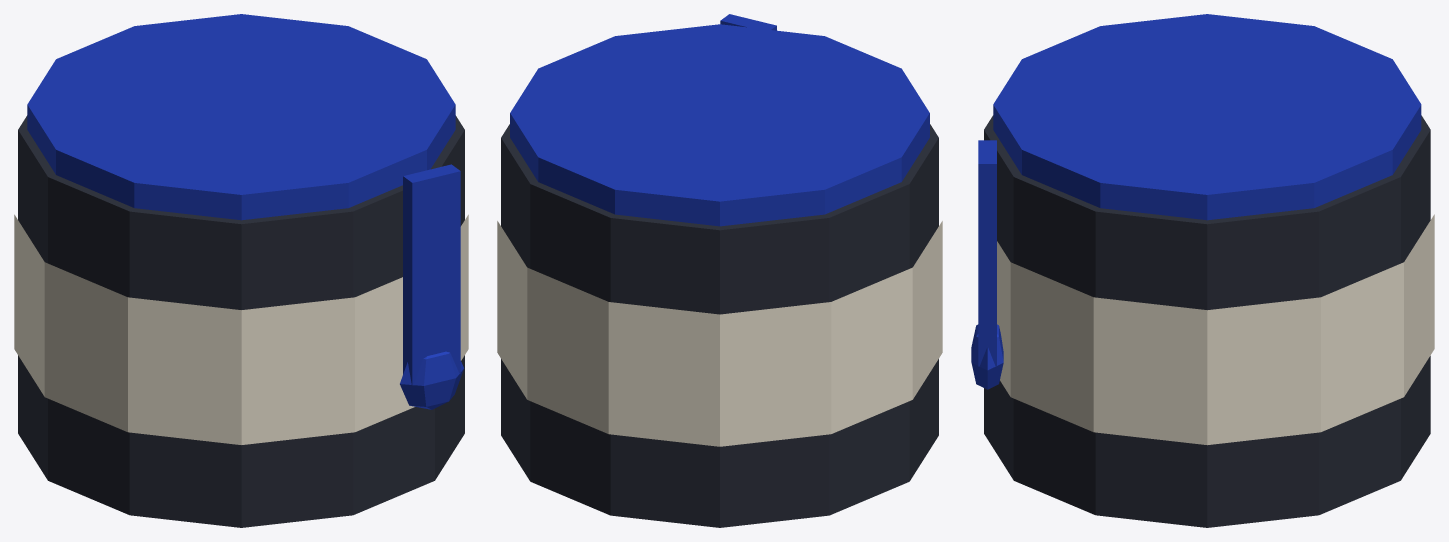
Rendered from ink_pot.glb.
3 views of the same model, side by side, from view 1: azimuth 30°, elevation 25°; view 2: azimuth 150°, elevation 25°; view 3: azimuth 270°, elevation 25° (orthographic). The views are drawn at different scales.
Visible parts, largest first — view 1: tin_ink_tin, tin_ink_blue, label_ink_label, drip_ink_blue; view 2: tin_ink_tin, tin_ink_blue, label_ink_label; view 3: tin_ink_tin, tin_ink_blue, label_ink_label, drip_ink_blue.
Boxes of the visible parts, x1=… form: tin_ink_tin: x1=18, y1=115, x2=464, y2=527; tin_ink_blue: x1=27, y1=14, x2=455, y2=220; label_ink_label: x1=14, y1=214, x2=468, y2=444; drip_ink_blue: x1=400, y1=164, x2=464, y2=409; tin_ink_tin: x1=501, y1=124, x2=938, y2=527; tin_ink_blue: x1=510, y1=24, x2=929, y2=226; label_ink_label: x1=497, y1=221, x2=942, y2=446; tin_ink_tin: x1=984, y1=115, x2=1430, y2=527; tin_ink_blue: x1=993, y1=14, x2=1421, y2=220; label_ink_label: x1=997, y1=214, x2=1434, y2=445; drip_ink_blue: x1=971, y1=140, x2=1003, y2=389.
Bounding box in the file's own units: 0.244 × 0.195 × 0.2487.
